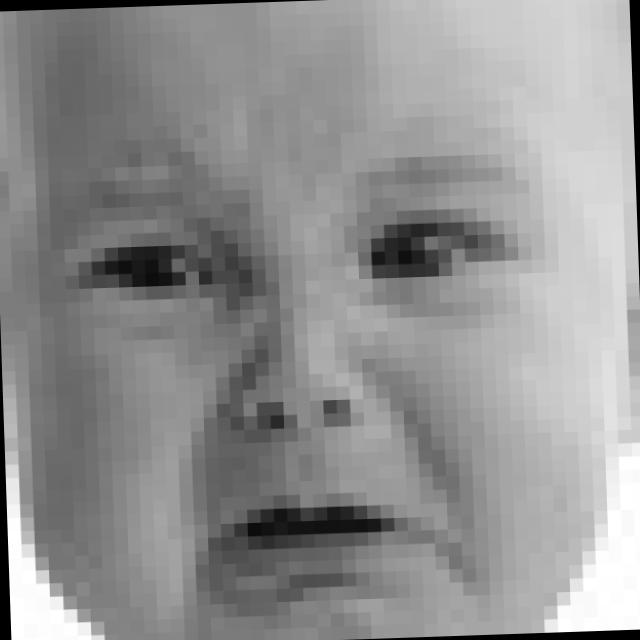sad: (42, 138, 560, 624)
